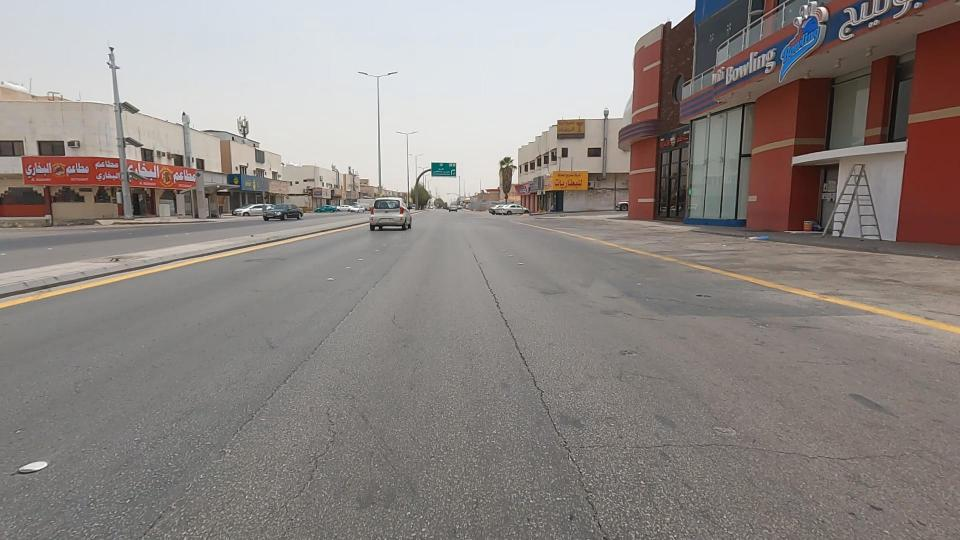BAD_BILLBOARD: (163, 139, 272, 217), (256, 169, 315, 204)
GARBAGE: (724, 222, 786, 260)
